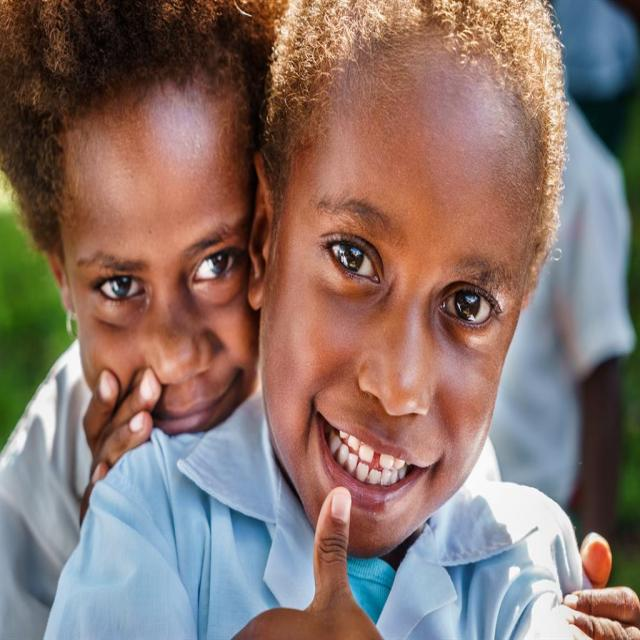child: (46, 0, 594, 640), (0, 2, 281, 640)
